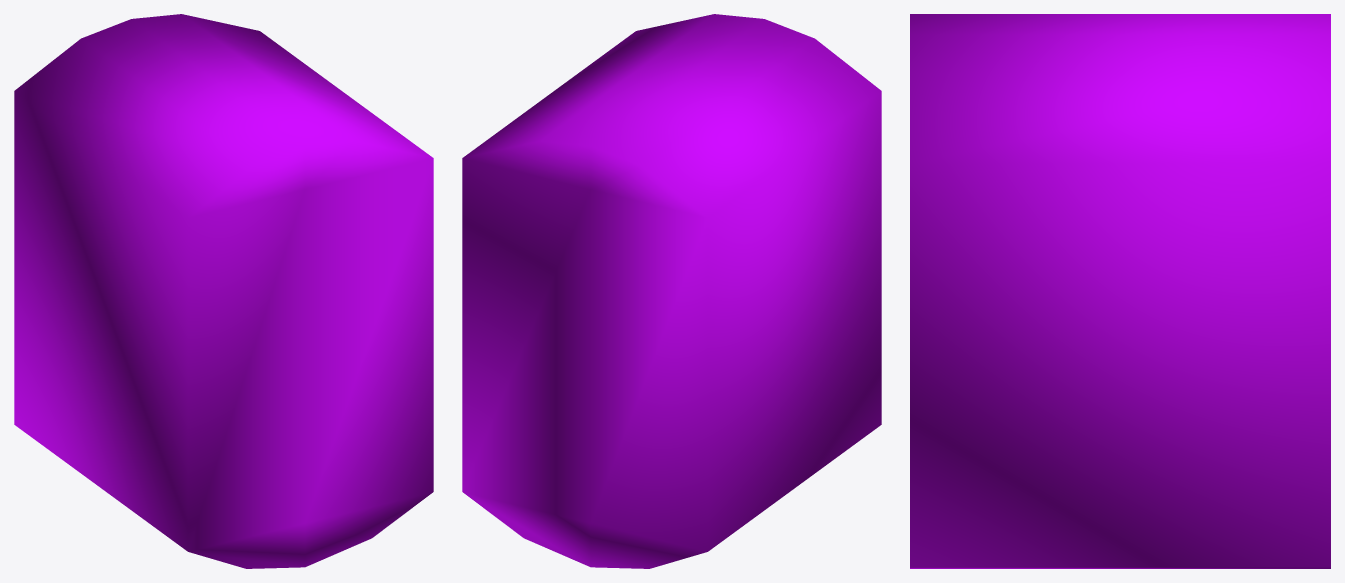
The model's file is zombie_survival_survivor_2_backbag_onGround_meshCollider.fbx.
The picture shows the model from 3 angles, left to right: view 1: azimuth 30°, elevation 25°; view 2: azimuth 150°, elevation 25°; view 3: azimuth 270°, elevation 25°; orthographic projection. The views are drawn at different scales.
Visible parts, largest first — view 1: zombie_survival_survivor_2_backbag_onGround_meshCollider; view 2: zombie_survival_survivor_2_backbag_onGround_meshCollider; view 3: zombie_survival_survivor_2_backbag_onGround_meshCollider.
Part boxes in pixels (x1,y1,x2,y2): zombie_survival_survivor_2_backbag_onGround_meshCollider: [14, 14, 433, 568]; zombie_survival_survivor_2_backbag_onGround_meshCollider: [462, 14, 881, 568]; zombie_survival_survivor_2_backbag_onGround_meshCollider: [910, 14, 1330, 568].
Size of the model in its own units: 16.79 by 27.5 by 20.57.
